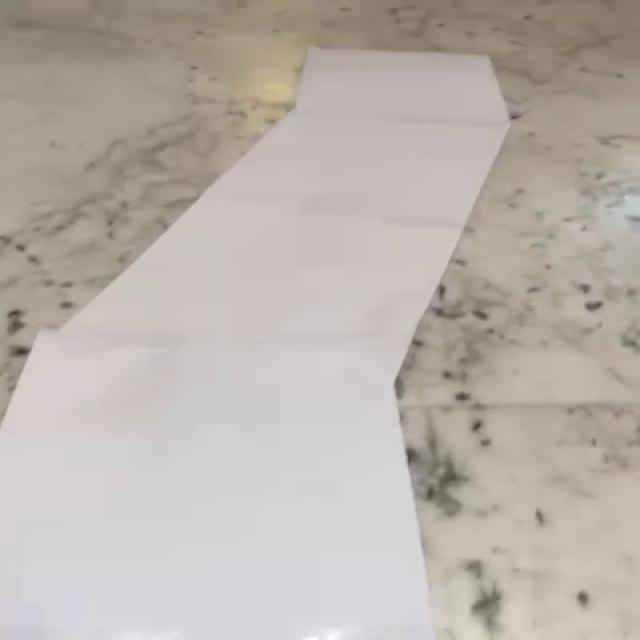road: (3, 48, 509, 640)
